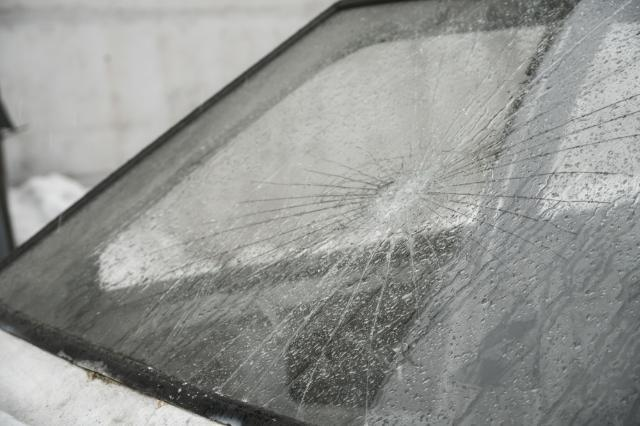glass shatter: (0, 0, 640, 426)
